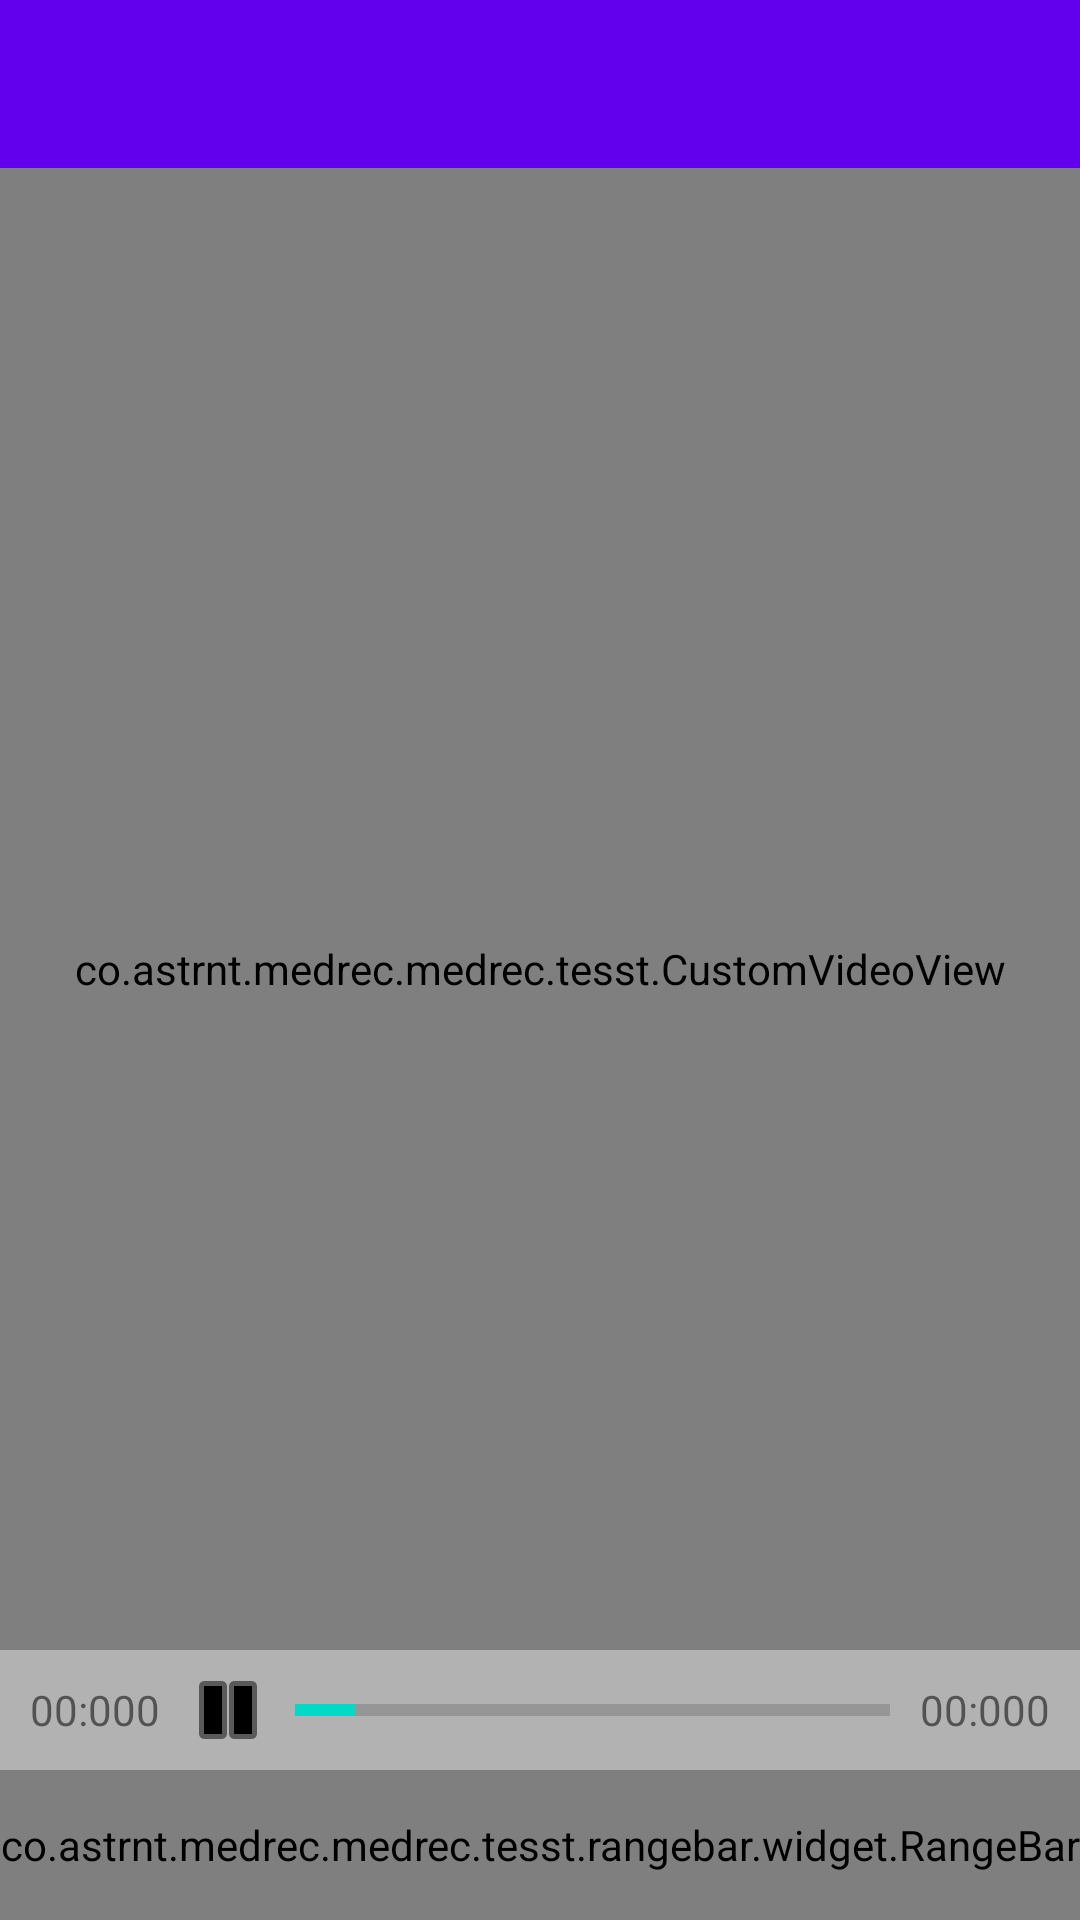

Named icons in this screenshot (1080 × 1920) and their bounding boxes, (x1, y1, x2, y2):
pause: (199, 1681, 257, 1739)
